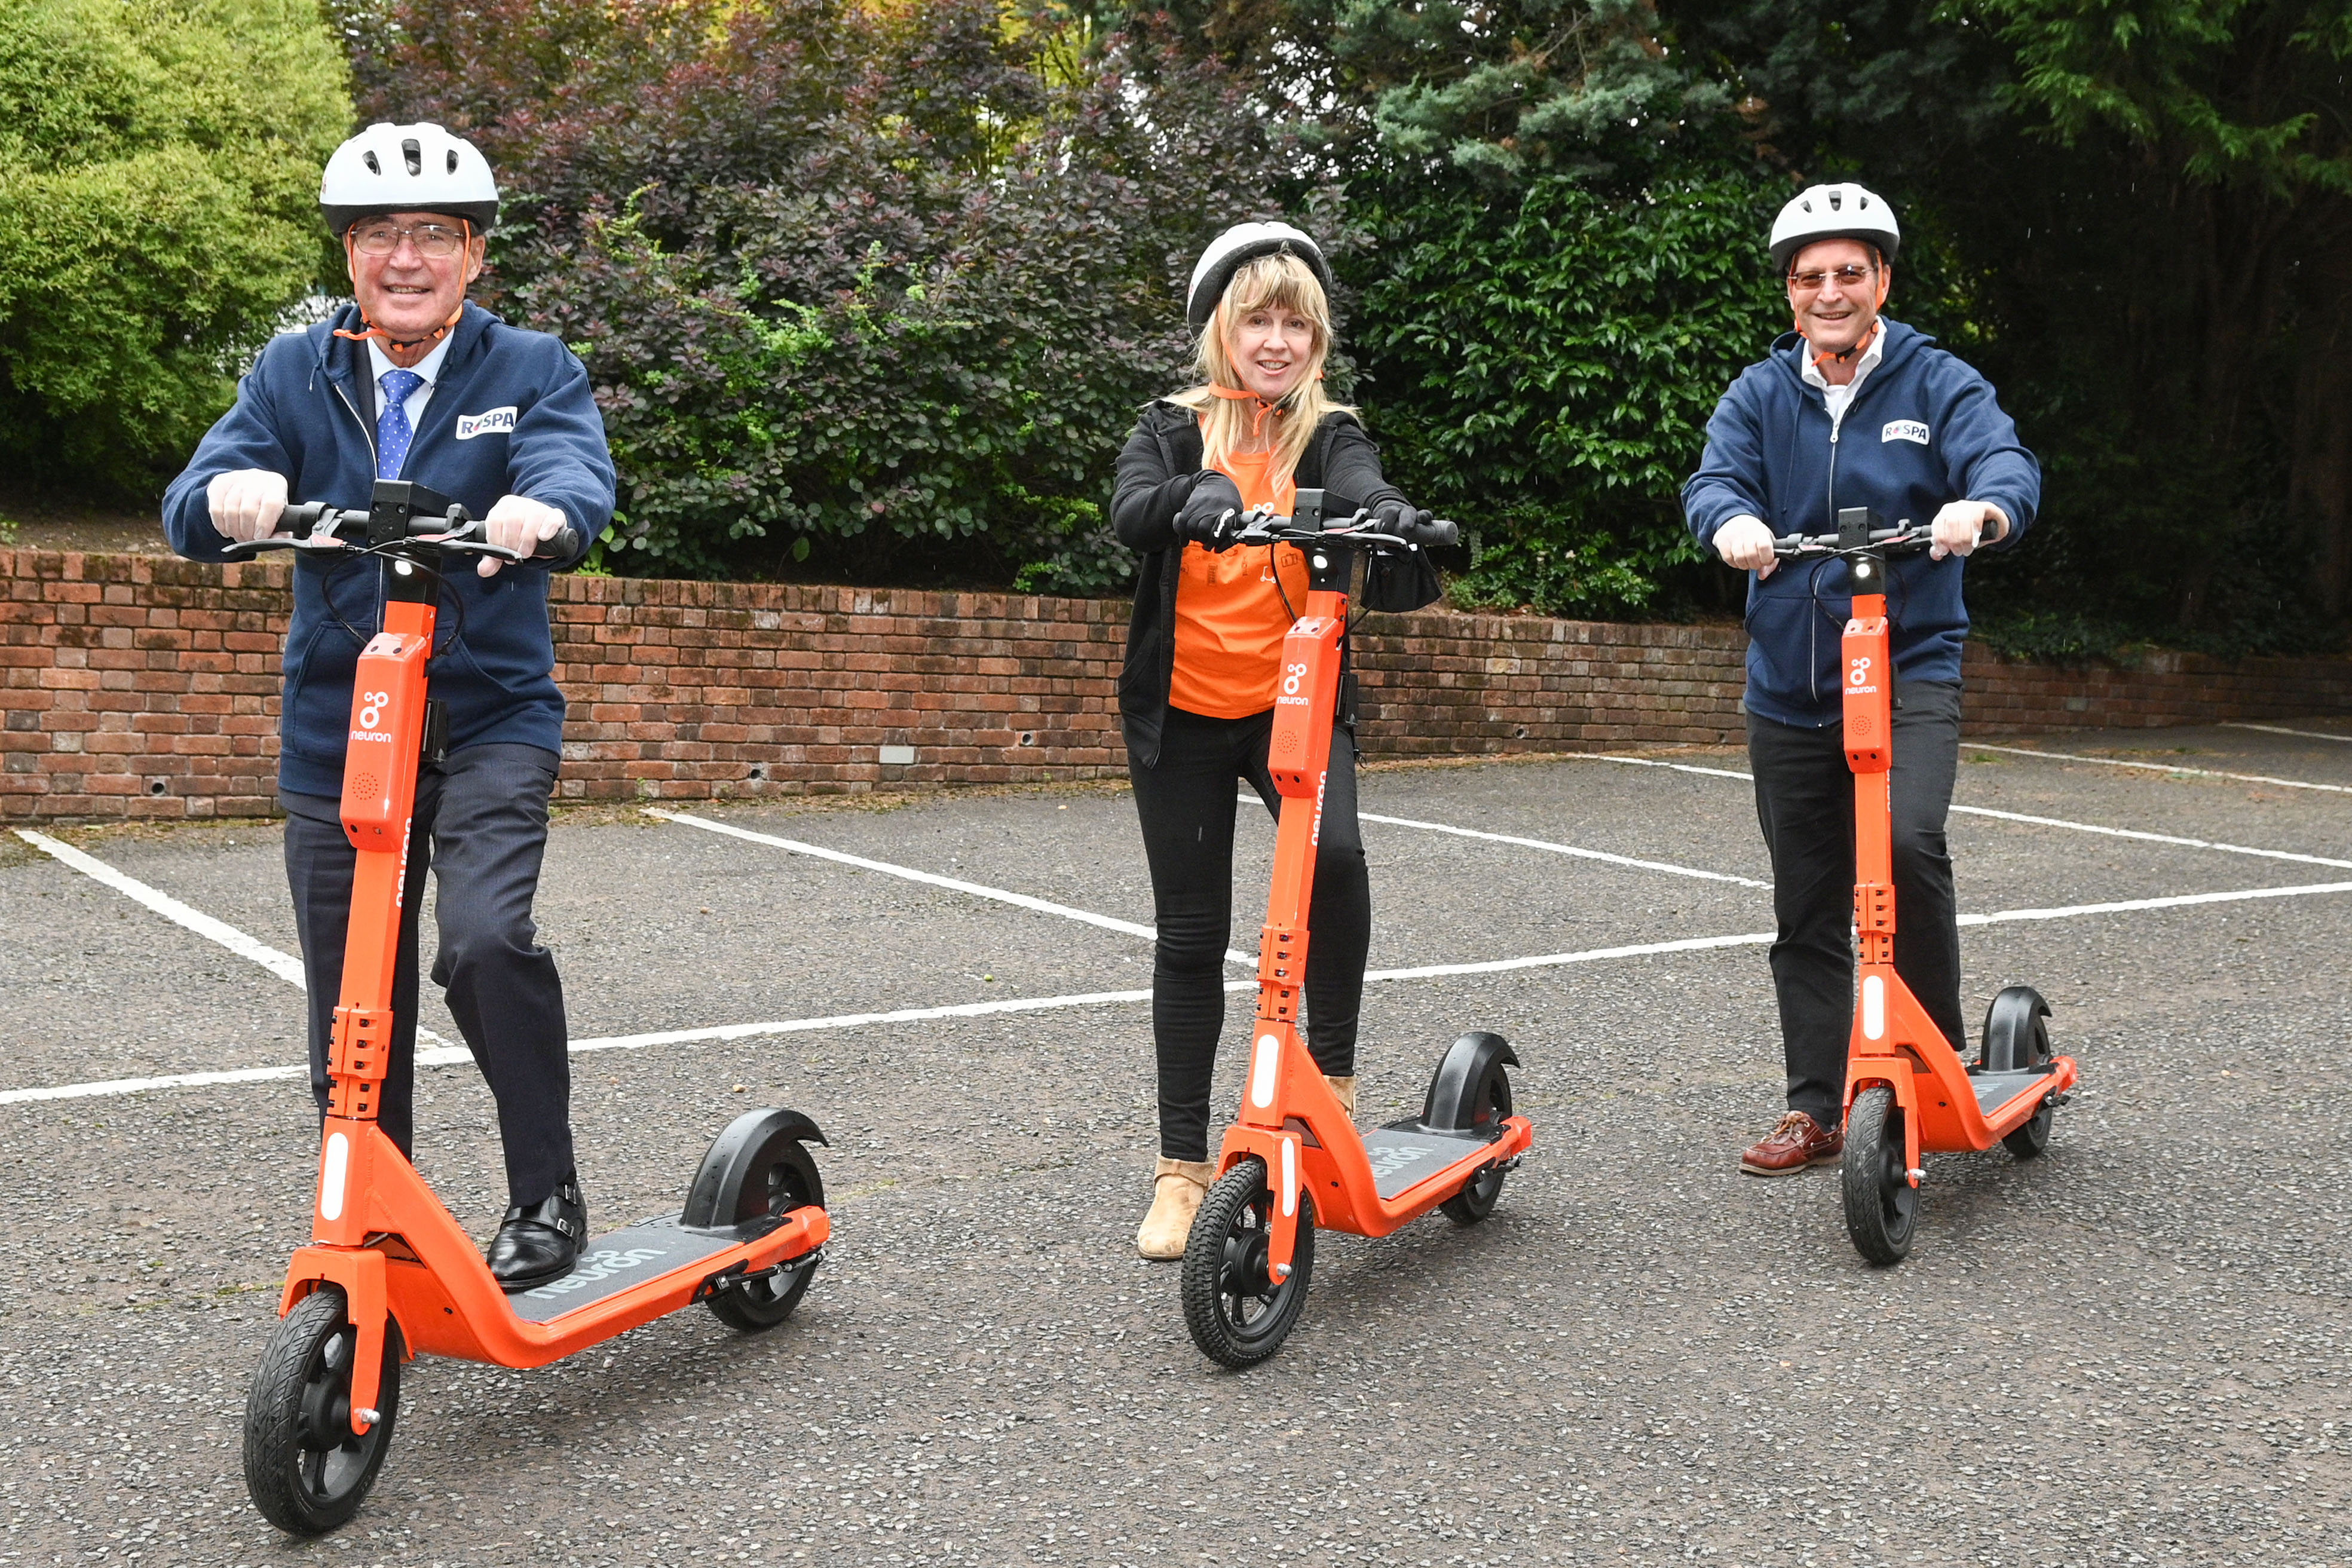scooter: (185, 485, 850, 1535), (1125, 467, 1538, 1381), (1713, 506, 2093, 1288)
with helmet: (301, 105, 506, 352), (1752, 156, 1914, 366), (1185, 220, 1351, 420)
